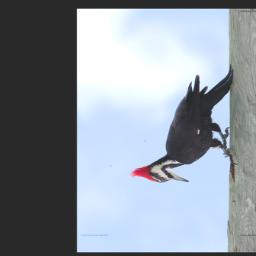Woodpecker: (130, 66, 238, 184)
